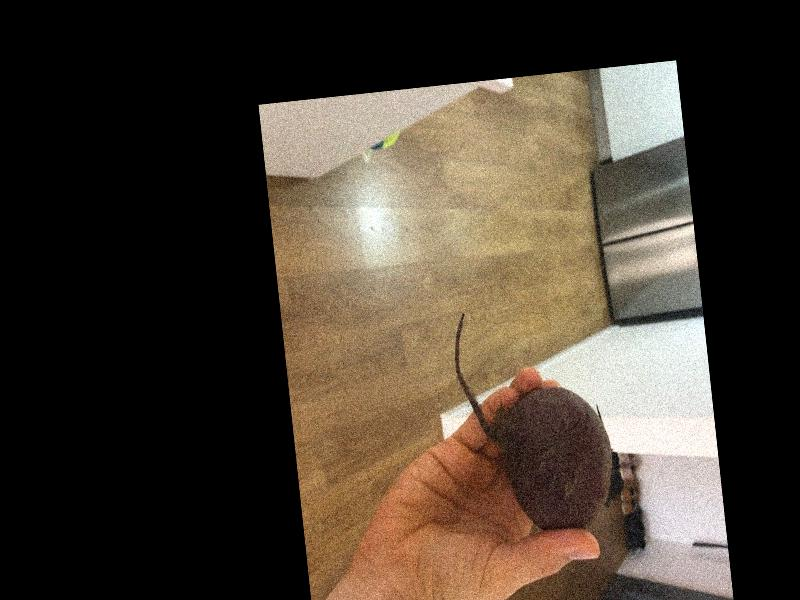Beet: (450, 298, 626, 539)
